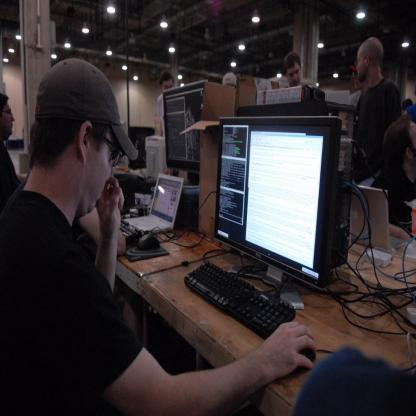board: (351, 182, 408, 252), (124, 171, 184, 233)
